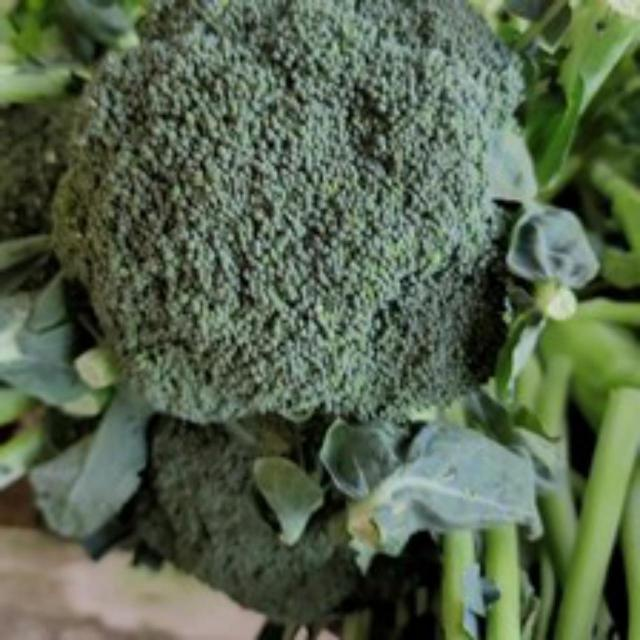broccoli: (54, 0, 540, 441)
